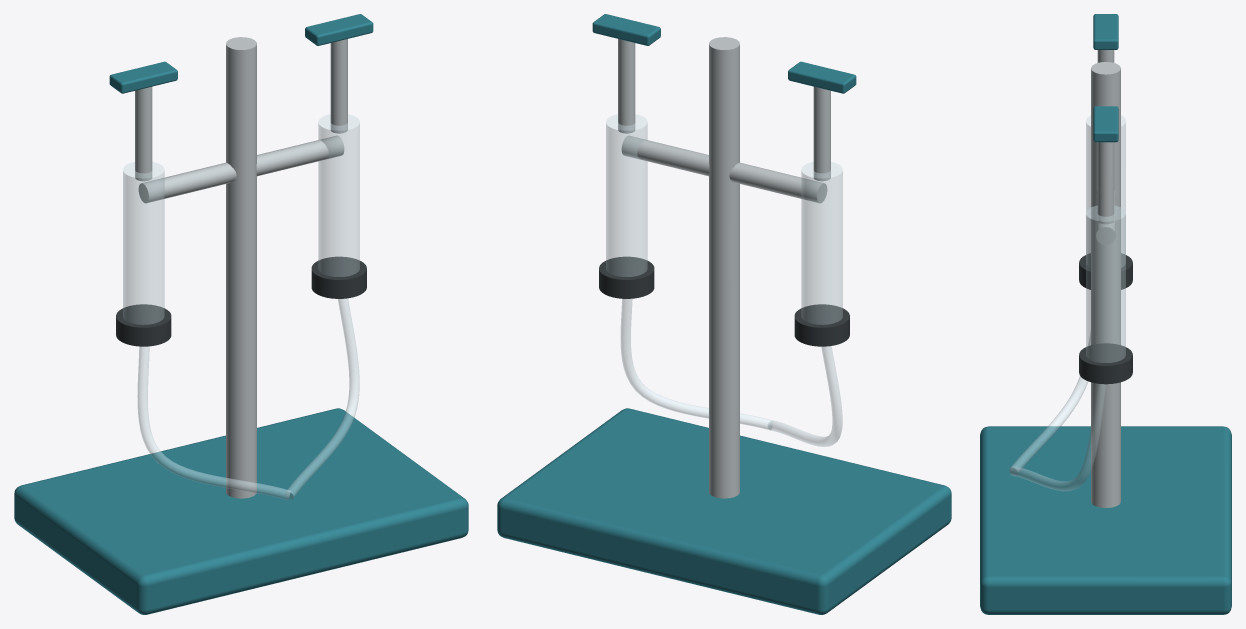
Rendered from bicycle-shop-and-repair-cafe-brake-bleed-stand-5360a09d__32412.glb.
3 renders of one model, left to right at view 1: azimuth 30°, elevation 25°; view 2: azimuth 150°, elevation 25°; view 3: azimuth 270°, elevation 25°, orthographic. The views are drawn at different scales.
Visible parts, largest first — view 1: brake-bleed-stand; view 2: brake-bleed-stand; view 3: brake-bleed-stand.
Part boxes in pixels (x1,y1,x2,y2): brake-bleed-stand: (14,14,468,614); brake-bleed-stand: (497,14,951,614); brake-bleed-stand: (980,14,1231,614).
Bounding box in the file's own units: 0.22 × 0.31 × 0.15.
